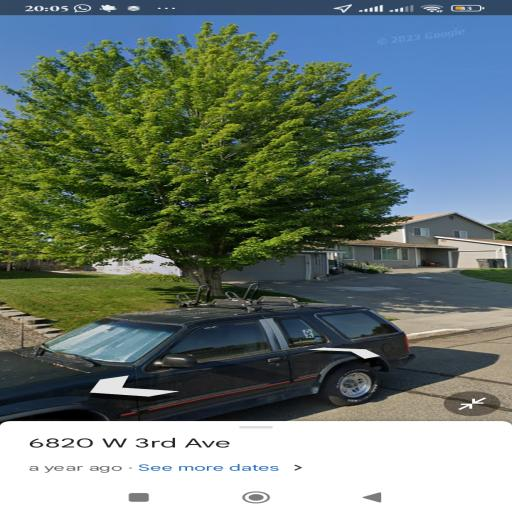Roads: (7, 316, 512, 424)
Trees: (28, 30, 382, 313)
